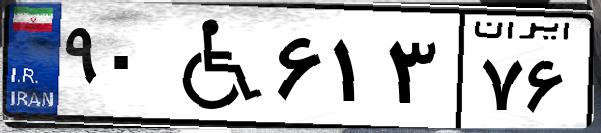0: (110, 28, 158, 98)
1: (330, 28, 385, 110)
3: (385, 28, 445, 110)
6: (270, 28, 330, 110), (525, 38, 570, 115)
7: (475, 38, 525, 113)
9: (57, 26, 110, 100)
ژ (معلولین و جانبازان): (158, 12, 270, 120)
